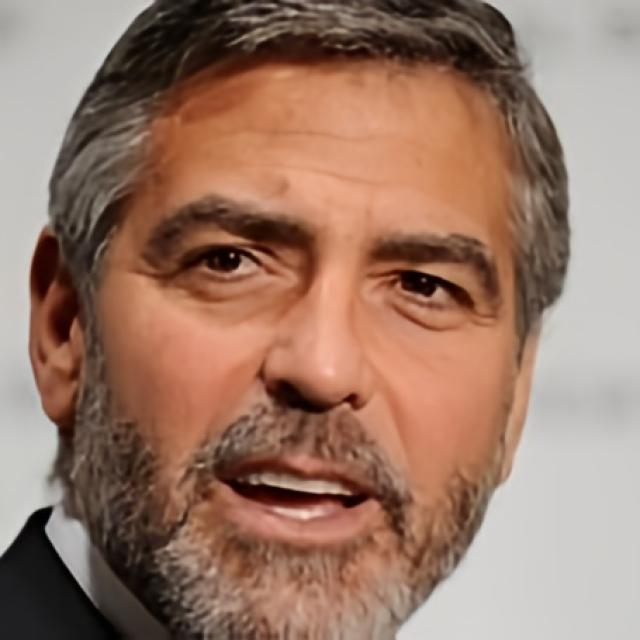disgust: (92, 54, 519, 640)
